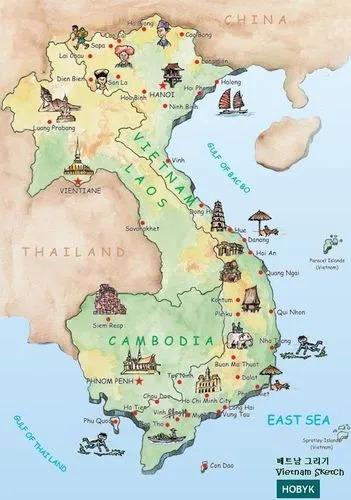Island: (310, 232, 351, 278), (301, 422, 351, 452)
